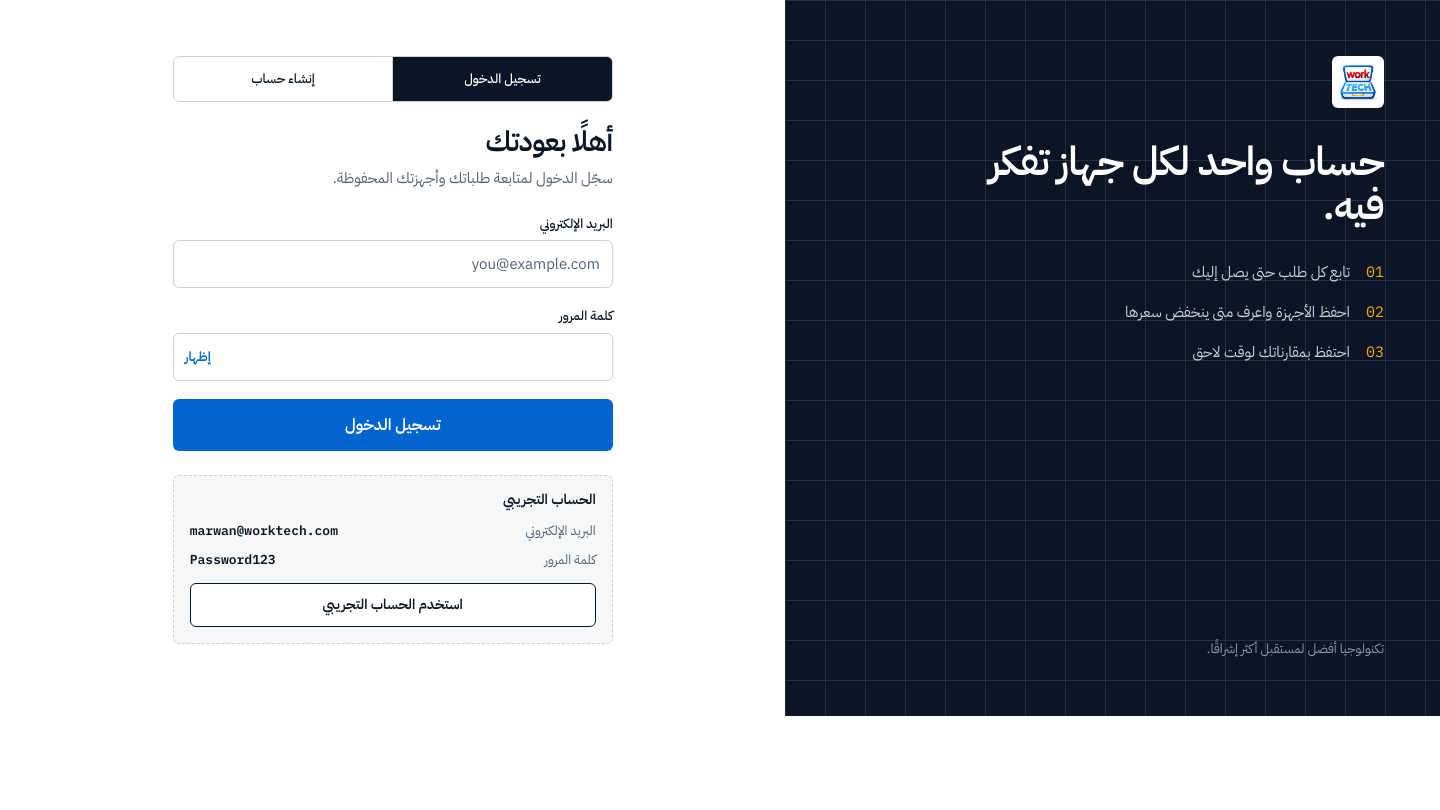
Test: sign in › shows the refusal in Arabic
This screenshot has width=1440, height=810.
Step 1. Type "marwan@worktech.com" into the field labelled "البريد الإلكتروني" → (393, 264), box [173,240,613,288]
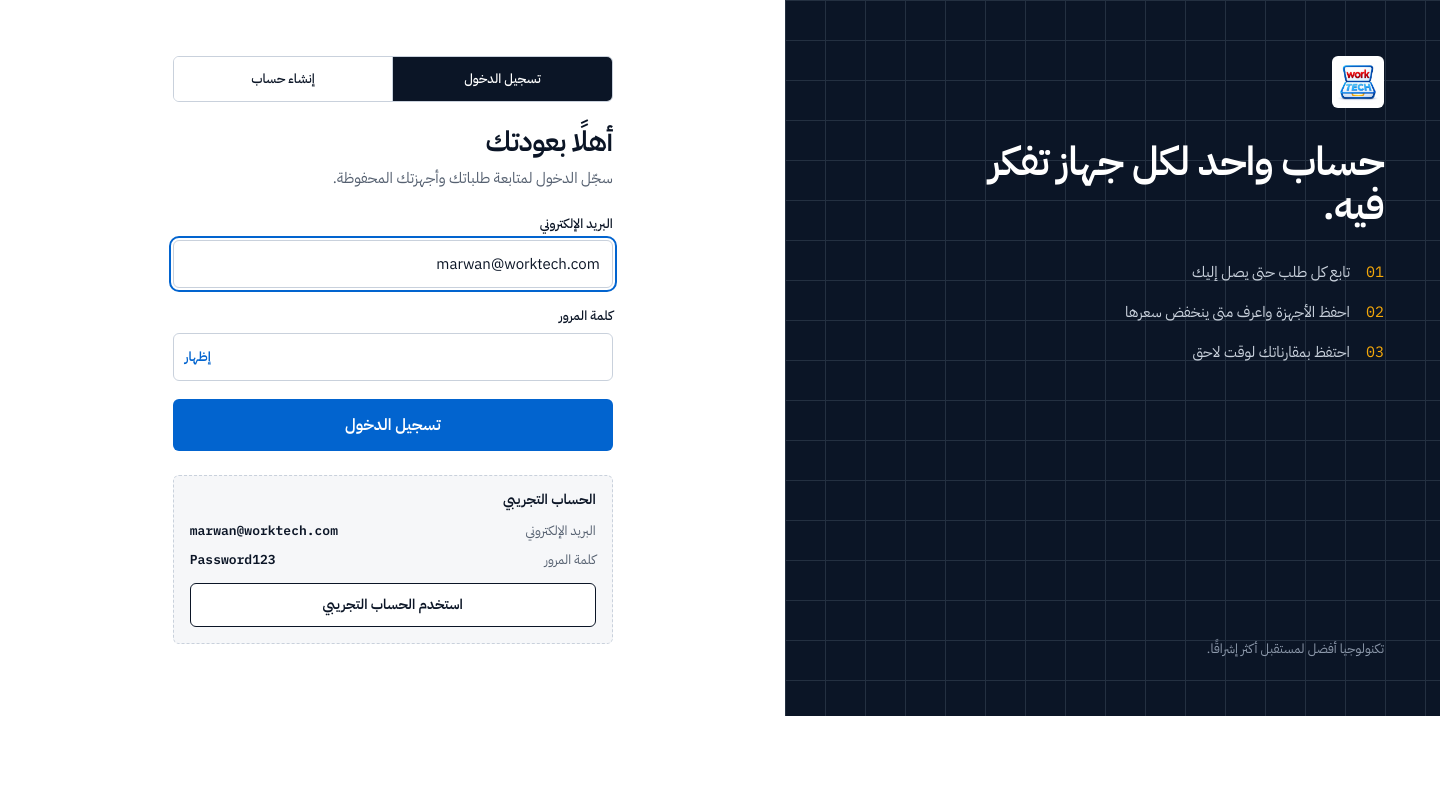
Step 2. Type "wrong" into the password field labelled "كلمة المرور" → (393, 357), box [173,333,613,381]
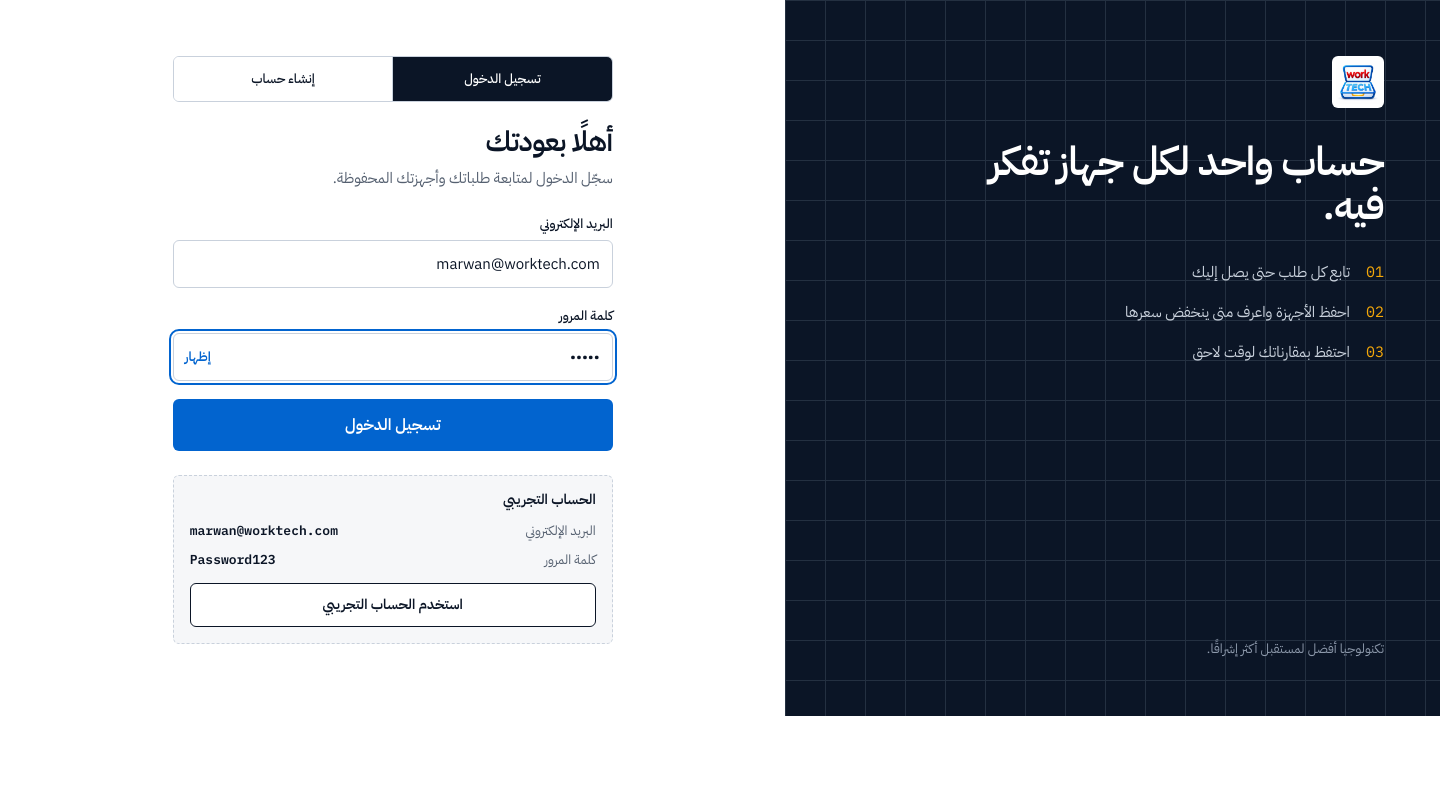
Step 3. Click the button "تسجيل الدخول" → (393, 425), box [173,399,613,451]
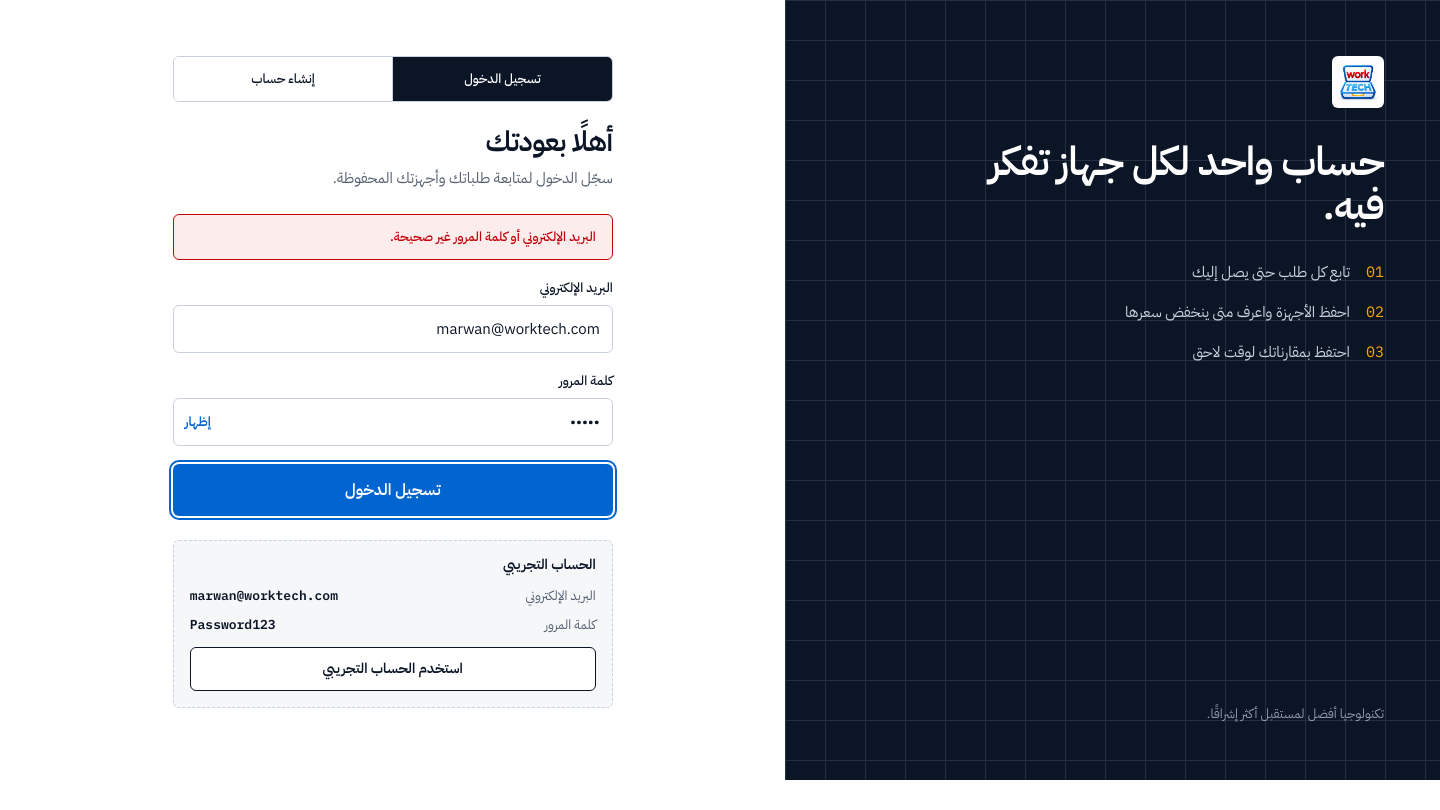
Check: the message reads "البريد الإلكتروني أو كلمة المرور غير صحيحة.", box [390,227,596,246]
